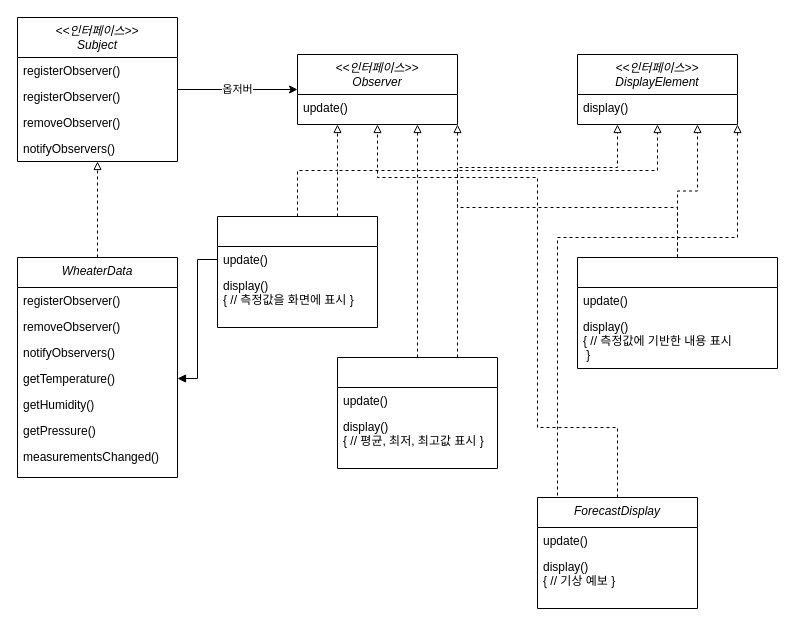
Some shapes in this 795 by 626 pixel diagram are drawn without their labels. The box of each missing label's shape, as (x1, y1, x2, y2) in pixels:
CurrentConditionsDisplay: (216, 216, 378, 328)
StatisticsDisplay: (336, 356, 498, 468)
ThirdPartyDisplay: (576, 256, 778, 368)
